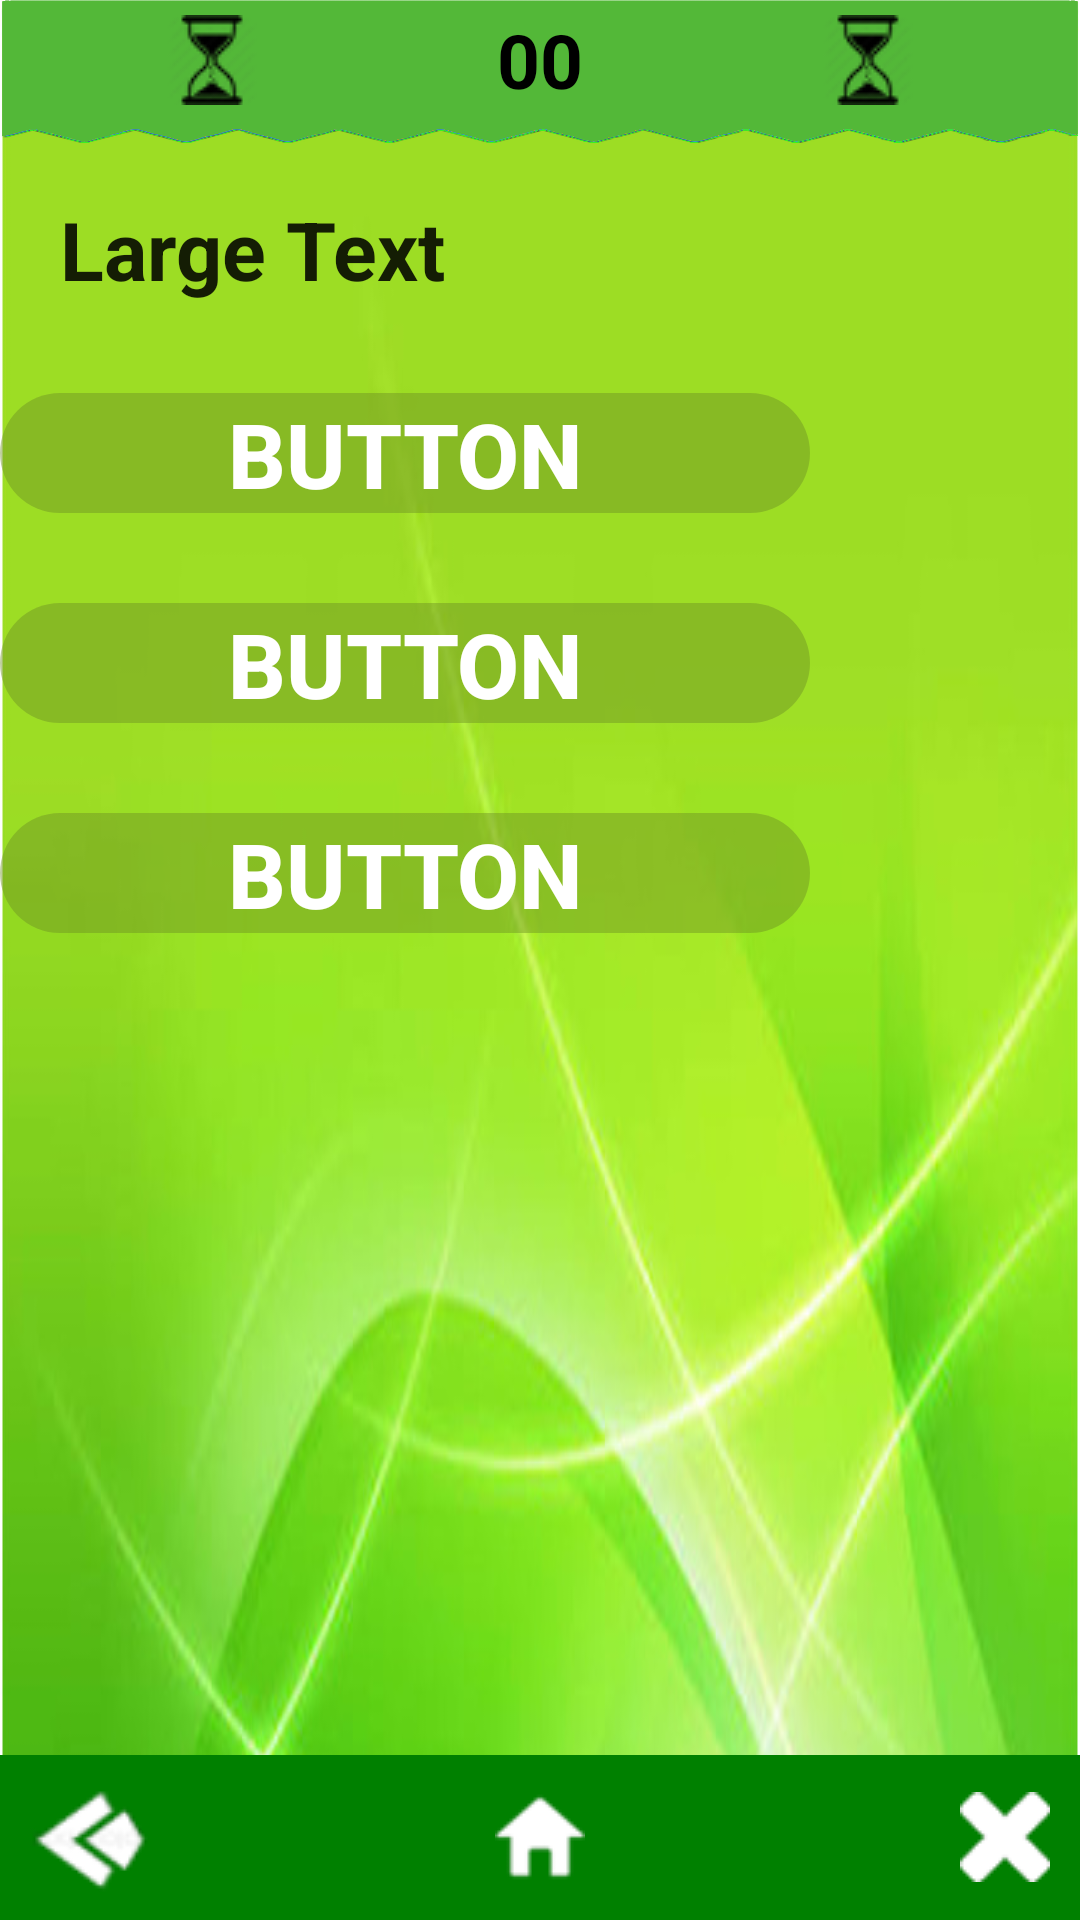

Where icons sit on this 1080 x 1920 app screen, as (x1, y1, x2, y2):
close: (960, 1792, 1050, 1882)
homy: (495, 1797, 585, 1877)
timer: (181, 15, 243, 105), (837, 15, 899, 105)
